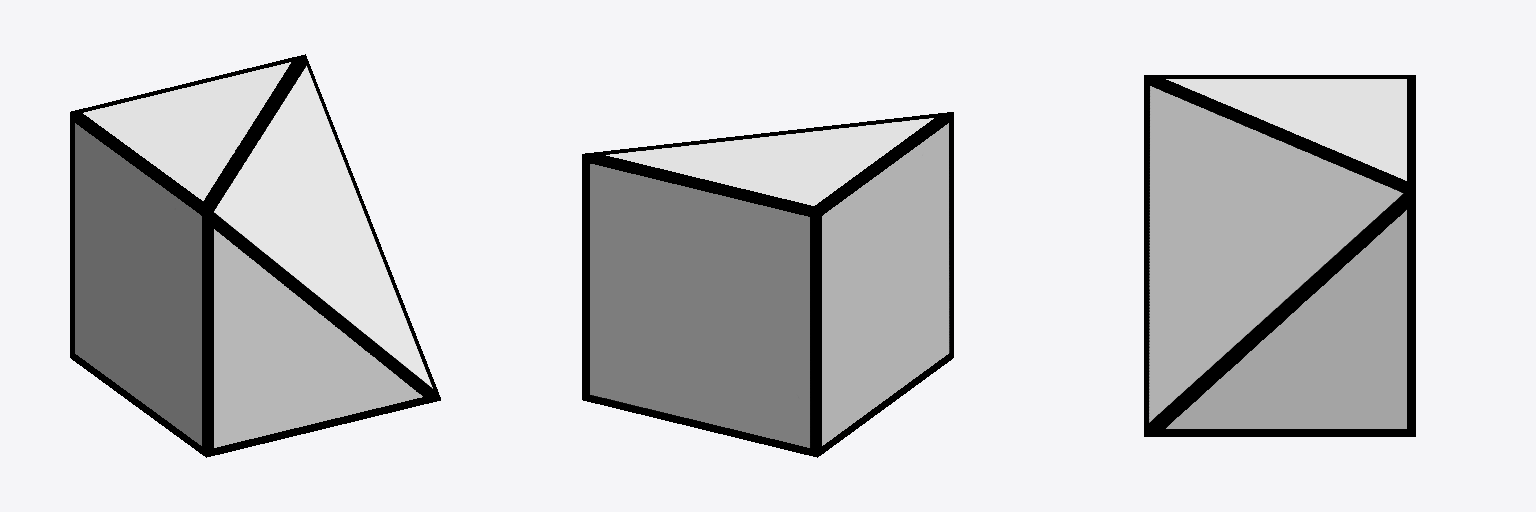
The picture shows the model from 3 angles: view 1: azimuth 30°, elevation 25°; view 2: azimuth 150°, elevation 25°; view 3: azimuth 270°, elevation 25°; orthographic projection.
Visible parts, largest first — view 1: Cube; view 2: Cube; view 3: Cube.
Boxes of the visible parts, x1,y1,x2,y2 form: Cube: [70, 54, 440, 457]; Cube: [582, 112, 953, 457]; Cube: [1144, 75, 1415, 436].
Bounding box in the file's own units: 1 × 1 × 1.
1 materials, 1 textured.